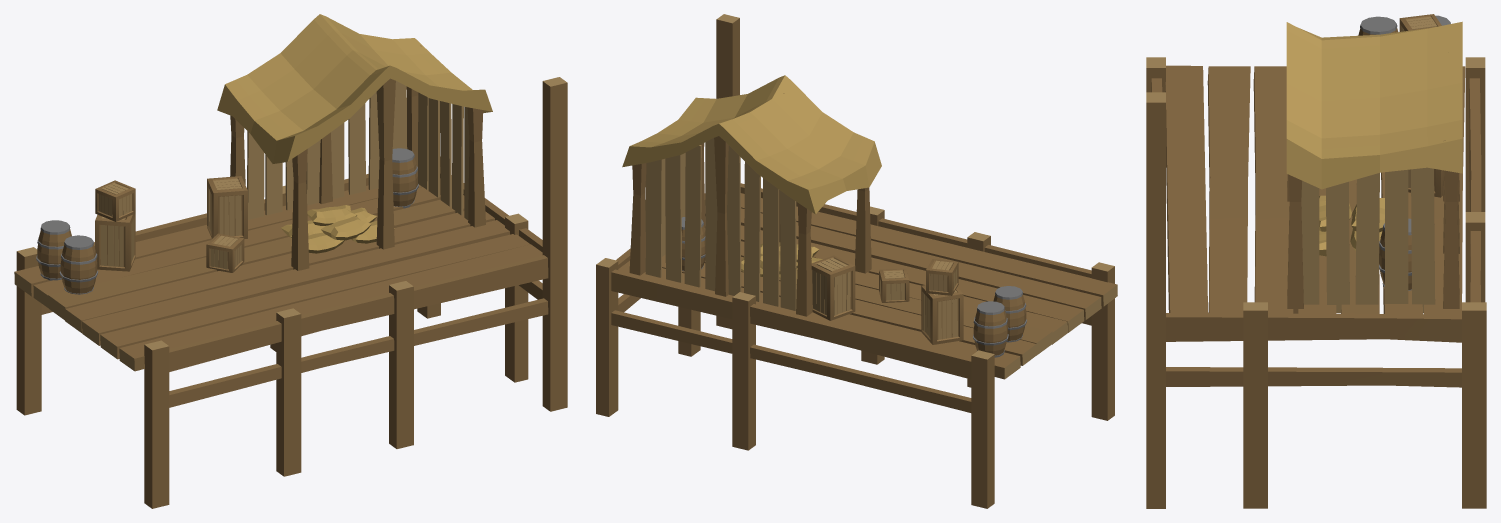
Rendered from Port.gltf.
3 renders of one model, left to right at view 1: azimuth 30°, elevation 25°; view 2: azimuth 150°, elevation 25°; view 3: azimuth 270°, elevation 25°, orthographic. The views are drawn at different scales.
Parts seen in each view (by area): view 1: Port_FirstAge_Level1; view 2: Port_FirstAge_Level1; view 3: Port_FirstAge_Level1.
Boxes of the visible parts, <box> form: Port_FirstAge_Level1: <box>14,14,567,508</box>; Port_FirstAge_Level1: <box>596,14,1117,508</box>; Port_FirstAge_Level1: <box>1146,14,1486,508</box>.
Bounding box in the file's own units: 1.31 × 0.9712 × 0.7242.
